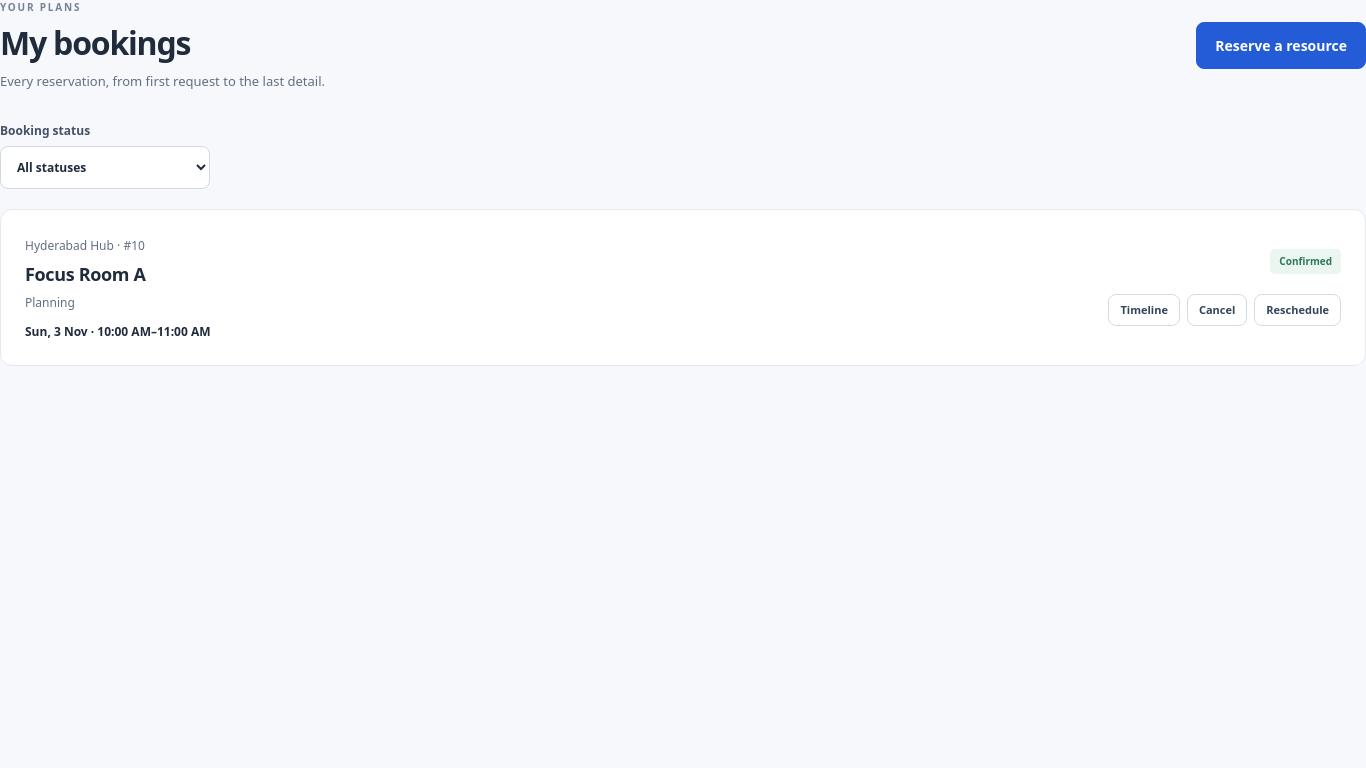
Test: ReserveOps user workflows › cancels a booking with a rationale and refreshes persisted server state
The image size is (1366, 768).
Step 1. Click the button "Cancel" → (1217, 310), box left=1187, top=294, right=1247, bottom=326
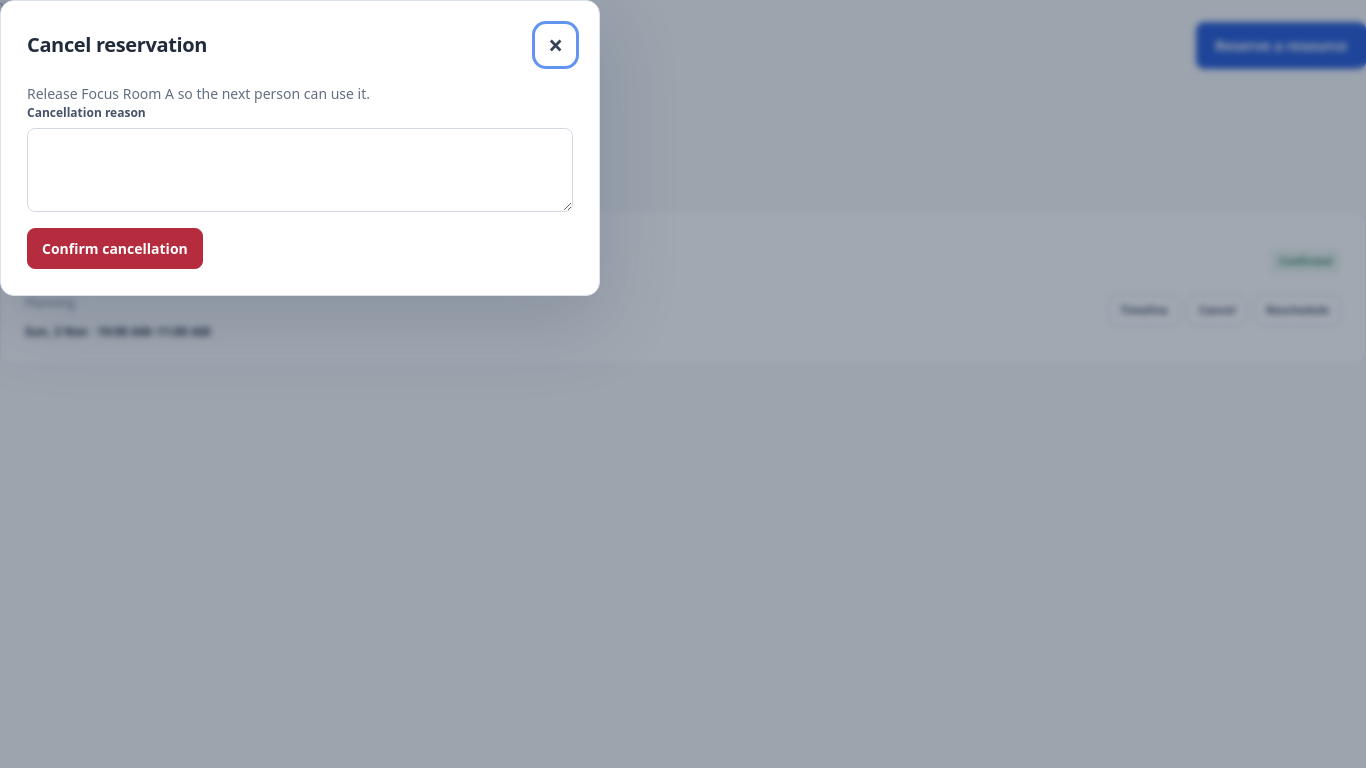
Step 2. Type "Plans changed" into the text box labelled "Cancellation reason" → (300, 170), box left=27, top=128, right=573, bottom=212
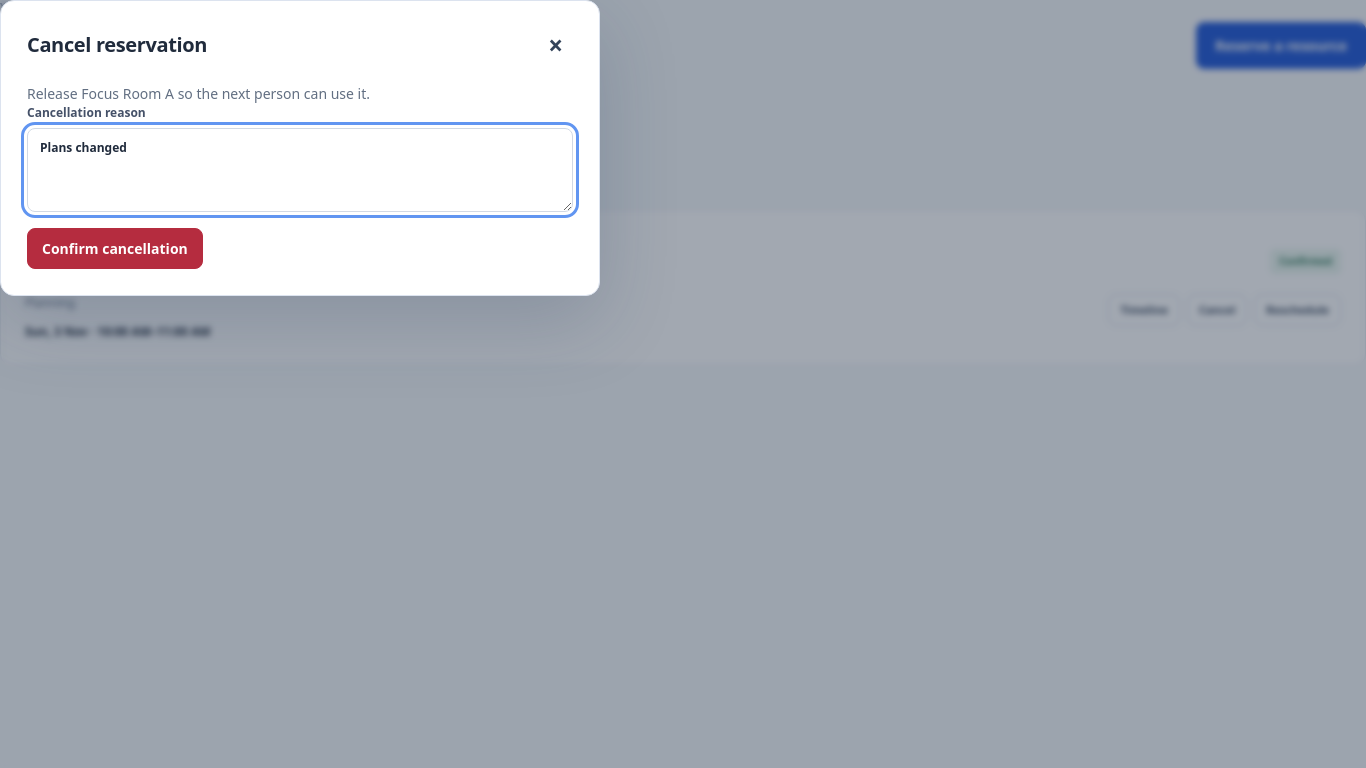
Step 3. Click the button "Confirm cancellation" → (115, 248), box left=27, top=228, right=203, bottom=269
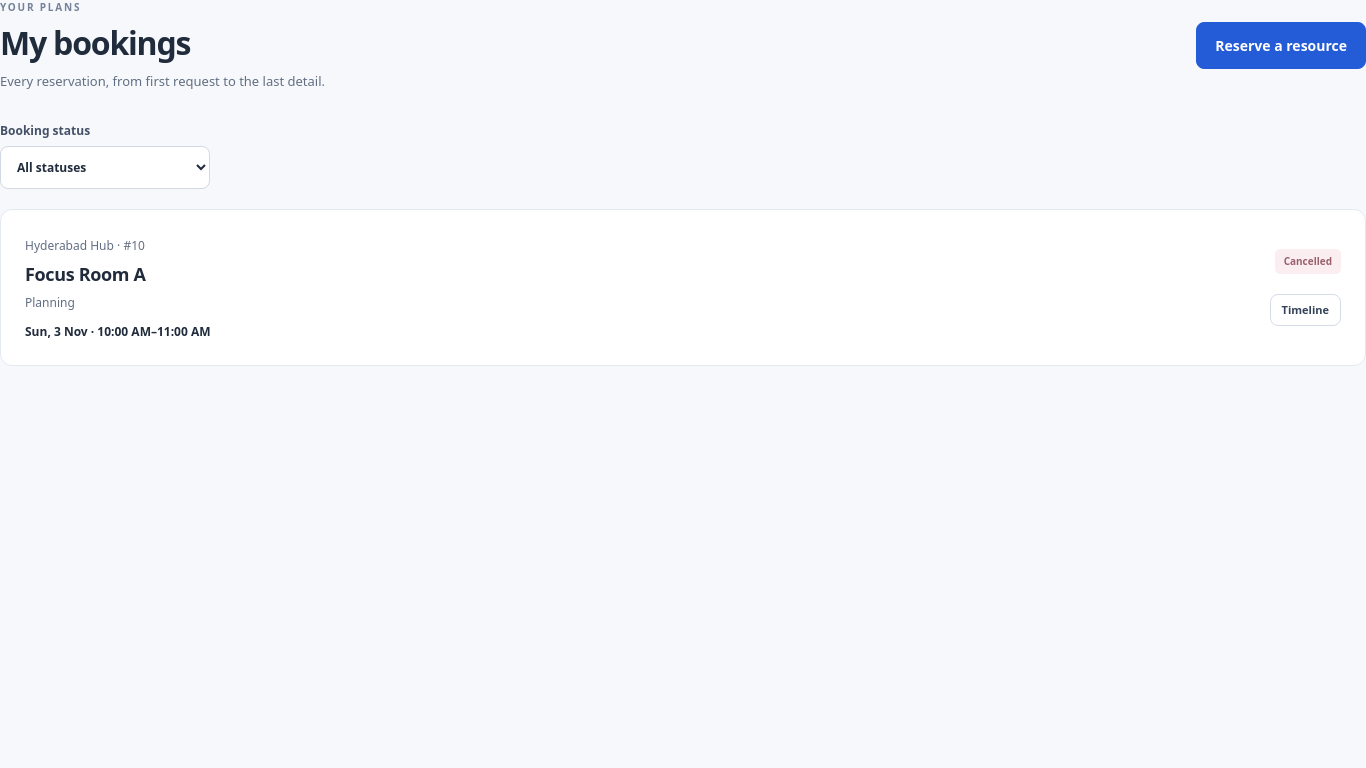
Check: the text "cancelled" is shown, box left=1275, top=249, right=1341, bottom=274
